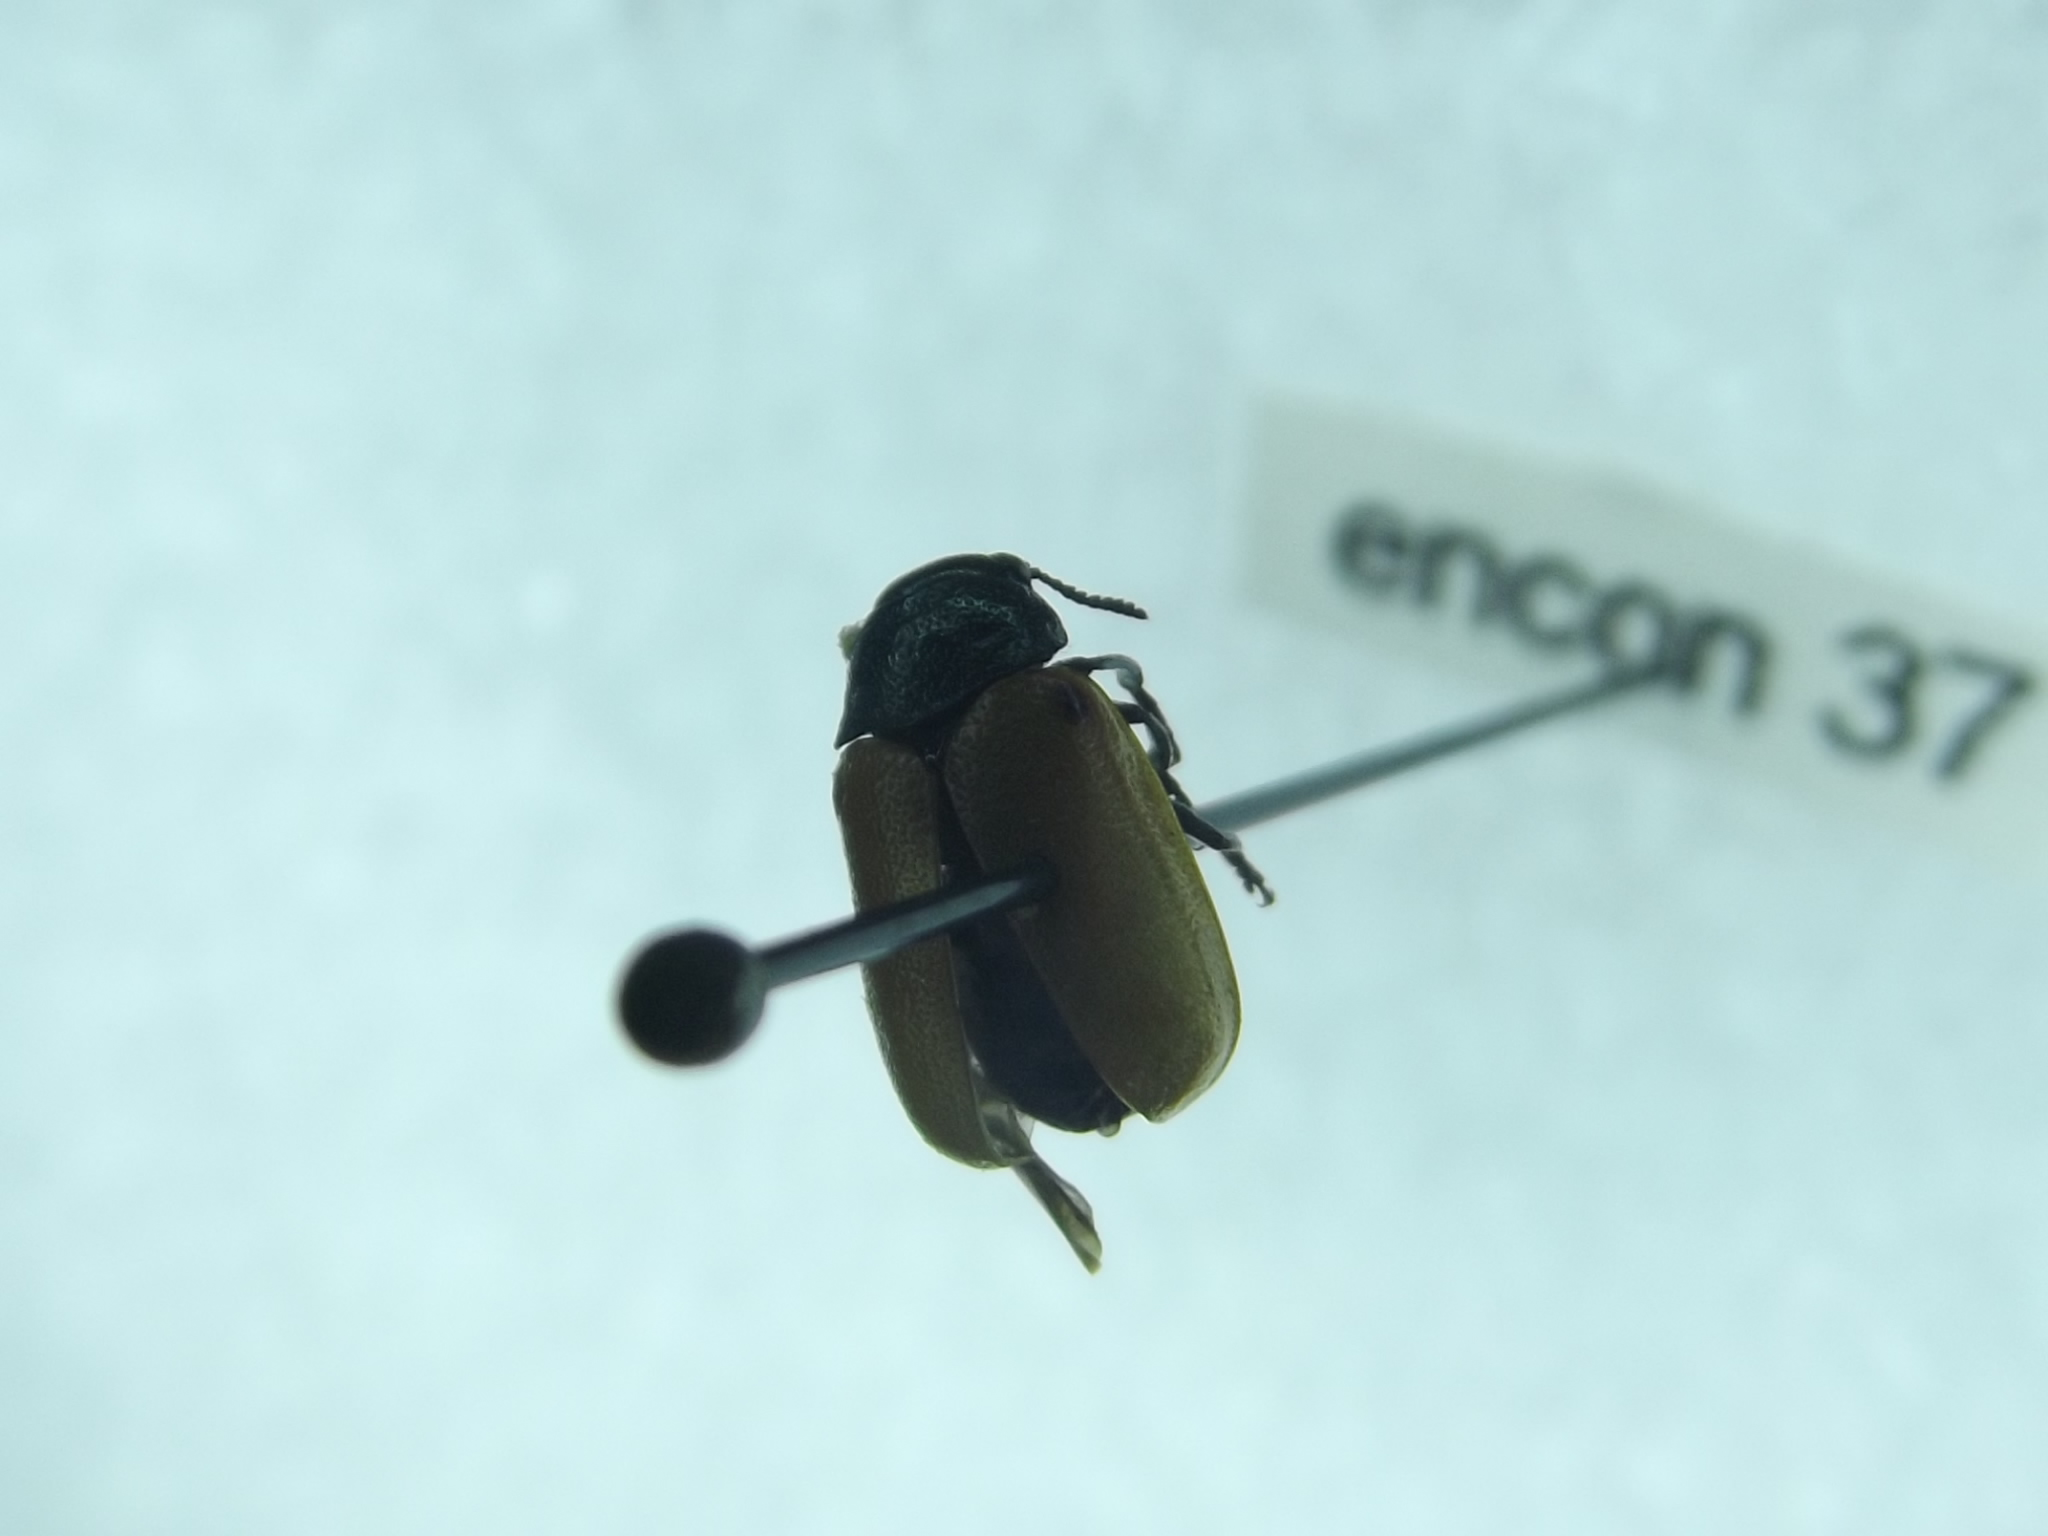Labidostomis_longimana: (813, 536, 1280, 1275)
